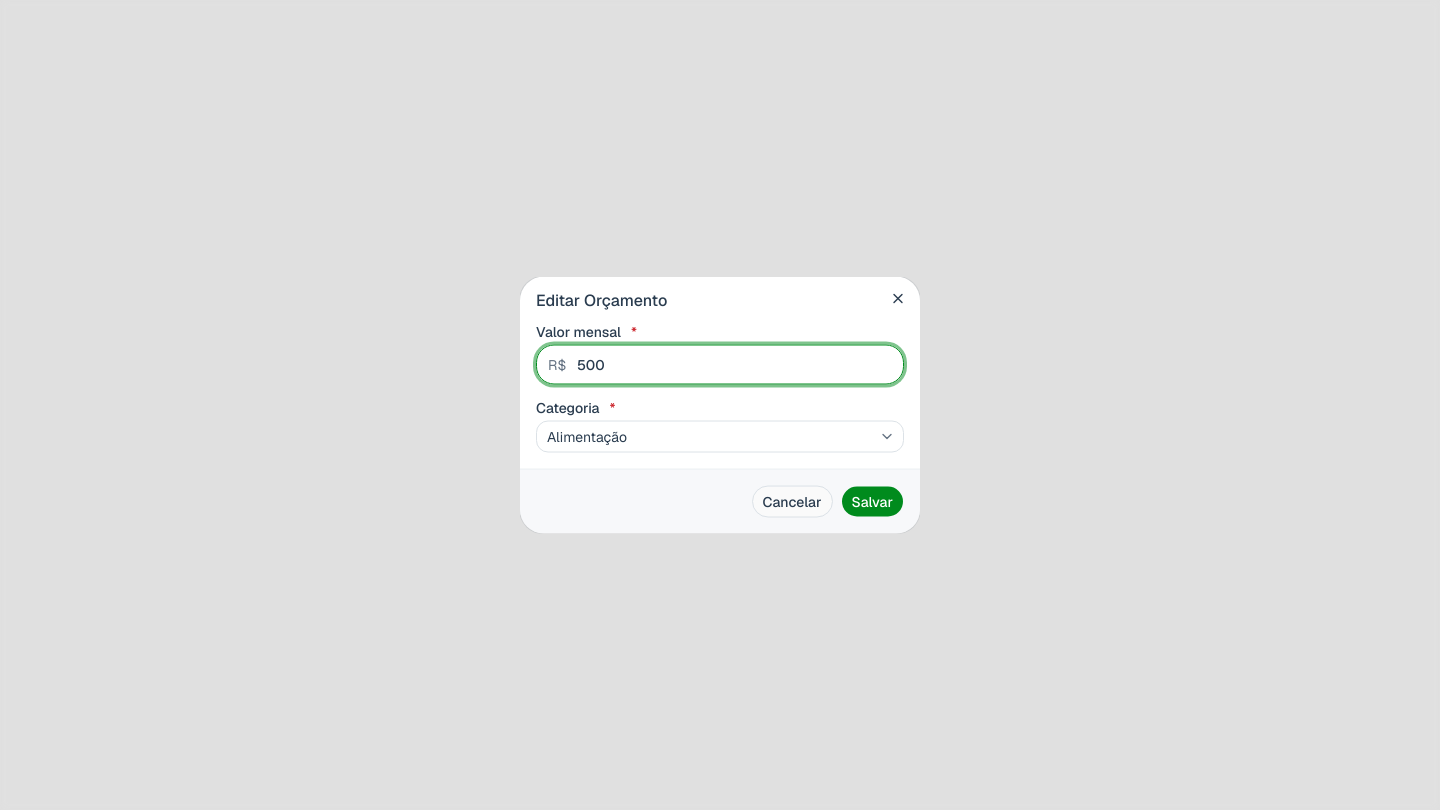
BudgetForm › mostra erro do servidor no form
Step 1. Click the button "Salvar" → (872, 502), box [840,486,904,518]
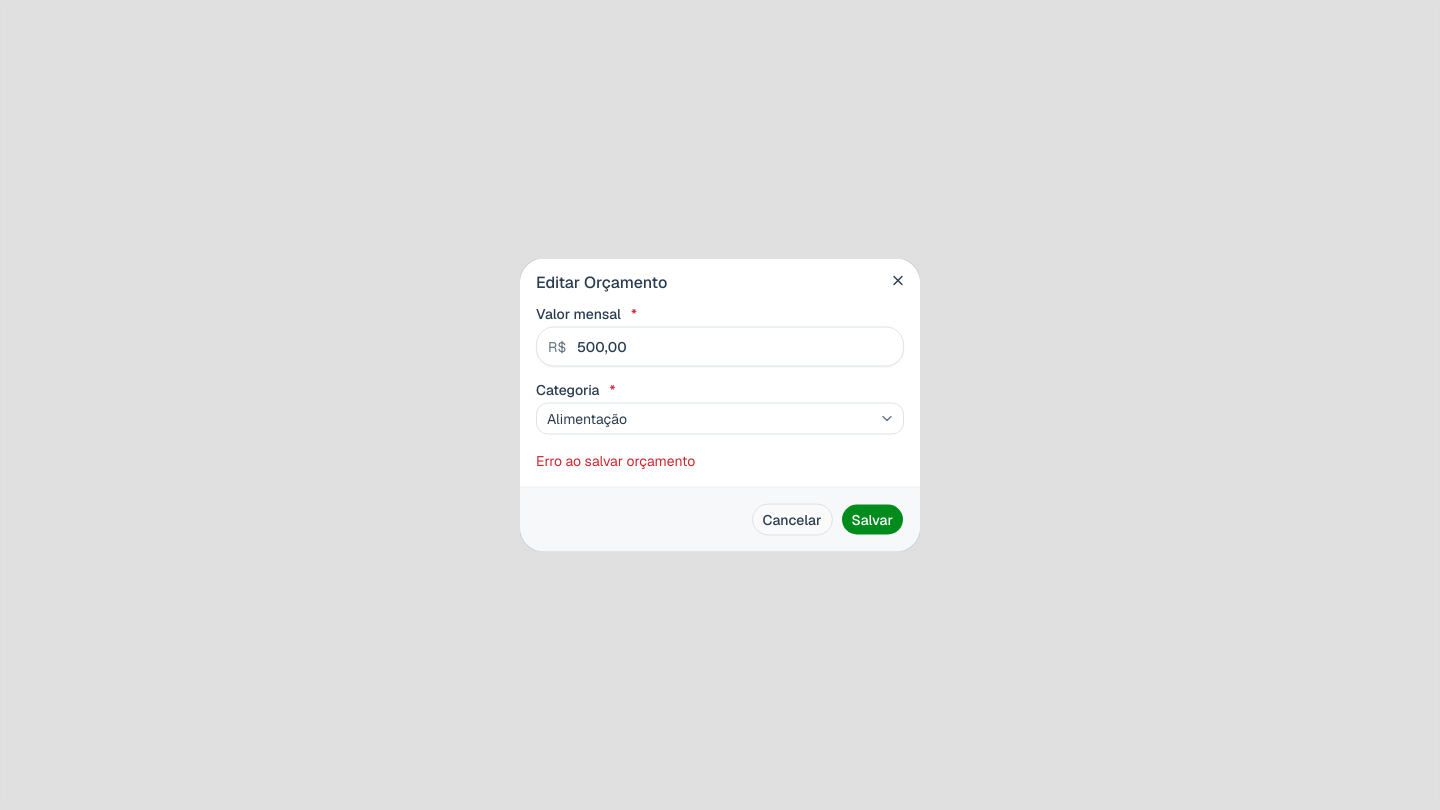
Expected: the text "Erro ao salvar orçamento" is shown, [536,452,695,470]
